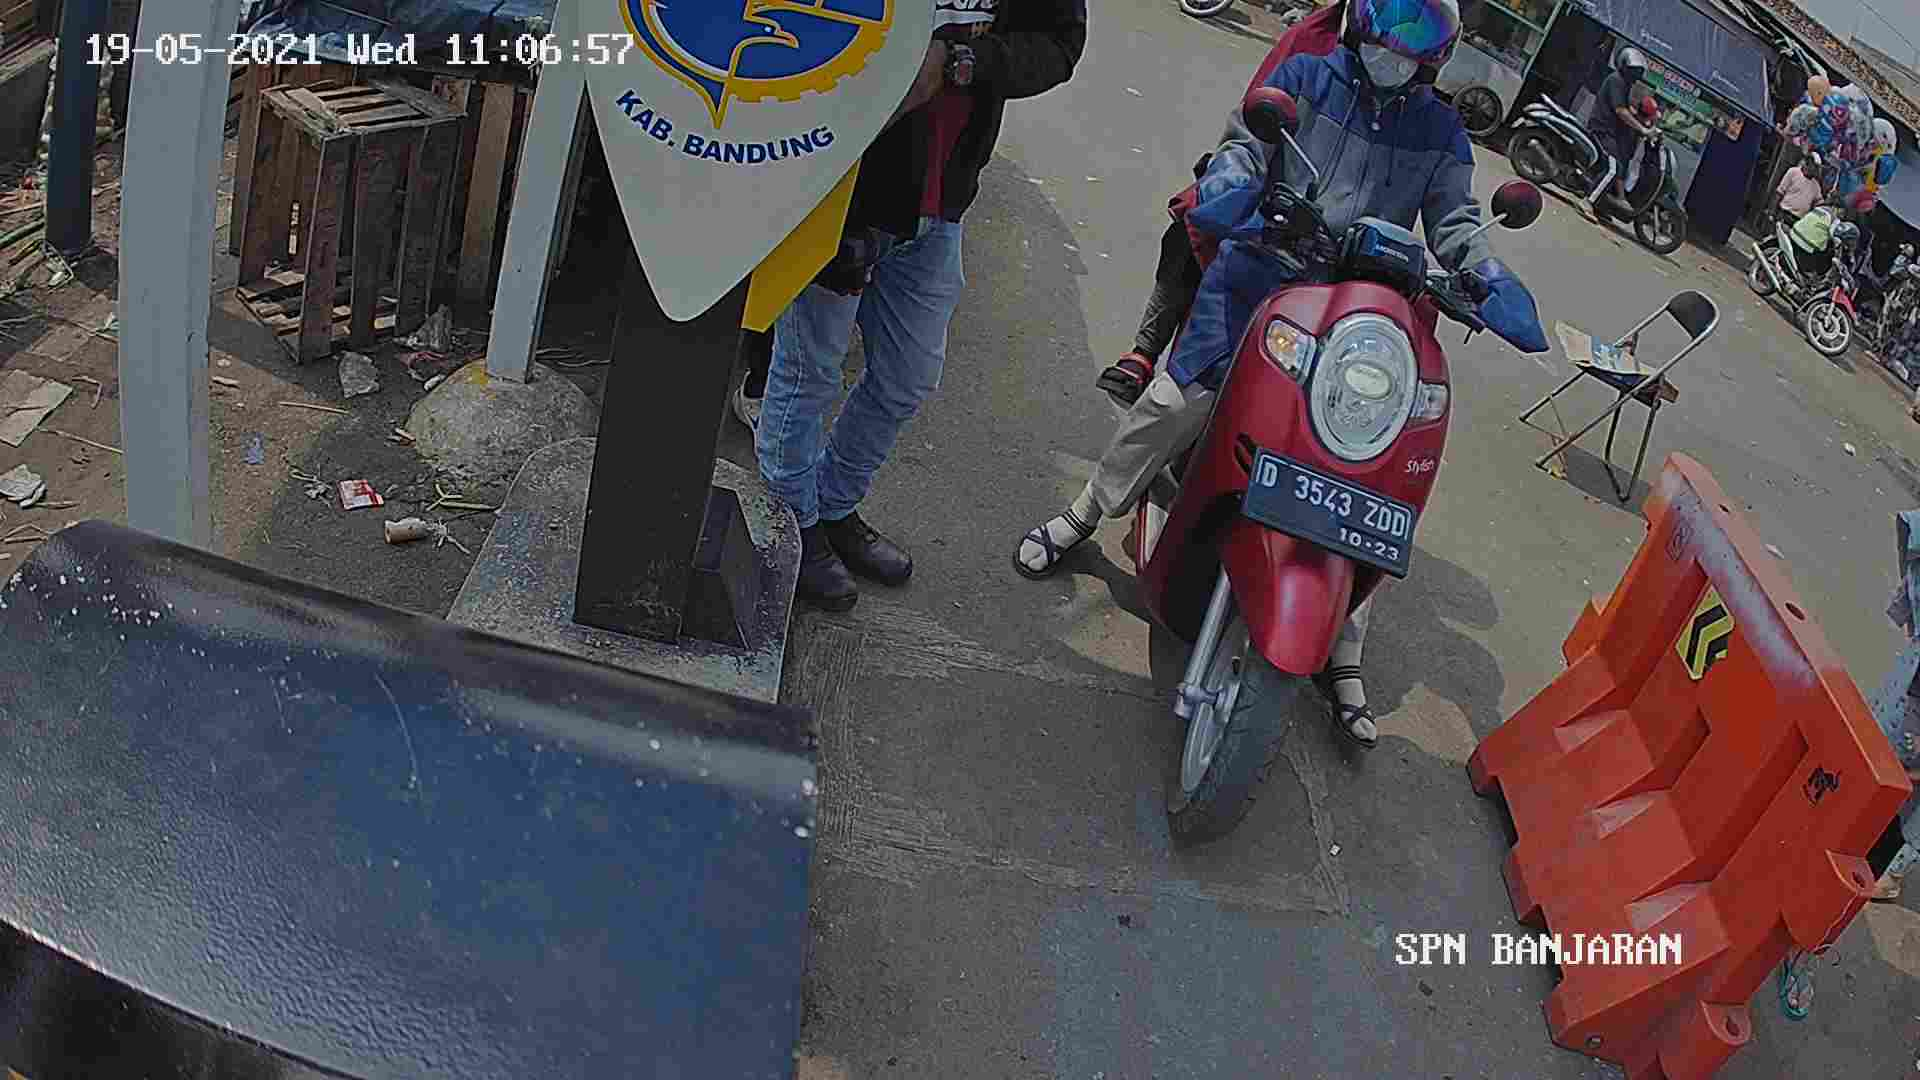motor: (1121, 215, 1501, 876)
